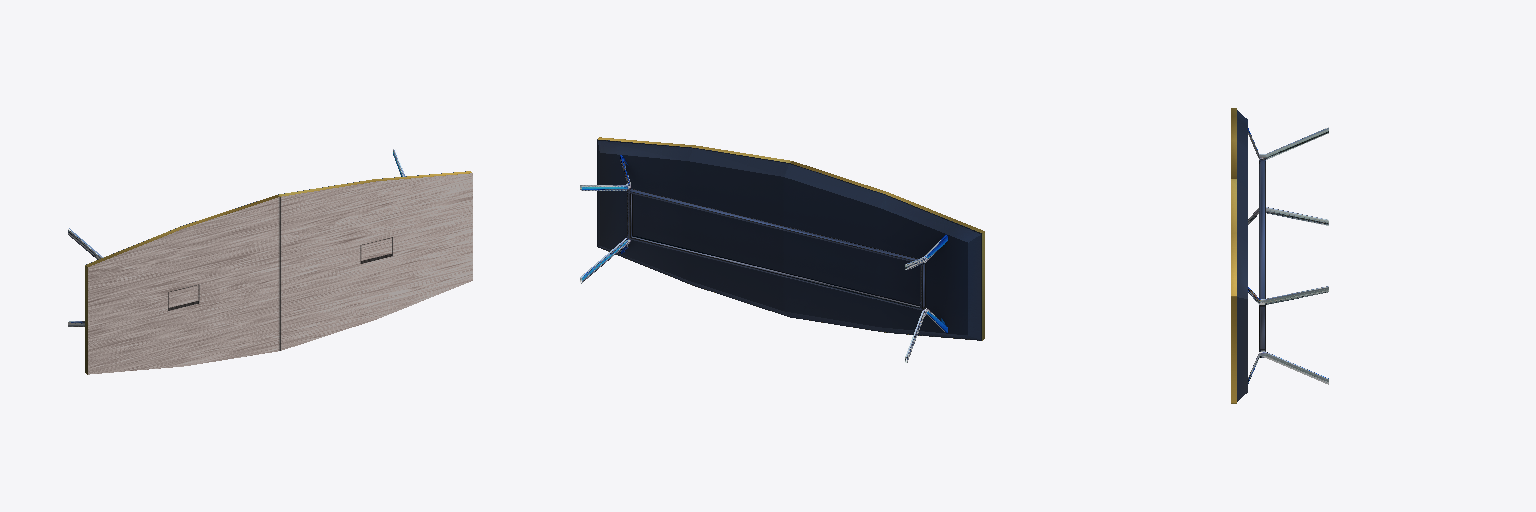
3 views of the same model, side by side, from view 1: azimuth 30°, elevation 25°; view 2: azimuth 150°, elevation 25°; view 3: azimuth 270°, elevation 25° (orthographic).
Visible parts, largest first — view 1: table_Cube.002; view 2: table_Cube.002; view 3: table_Cube.002.
Boxes of the visible parts, box(x1,y1,x2,y2) form: table_Cube.002: box(68, 149, 472, 374); table_Cube.002: box(580, 137, 984, 362); table_Cube.002: box(1231, 108, 1328, 403).
Bounding box in the file's own units: 3.4 × 1.3 × 0.749.
Materials: 1 (1 with a texture image).